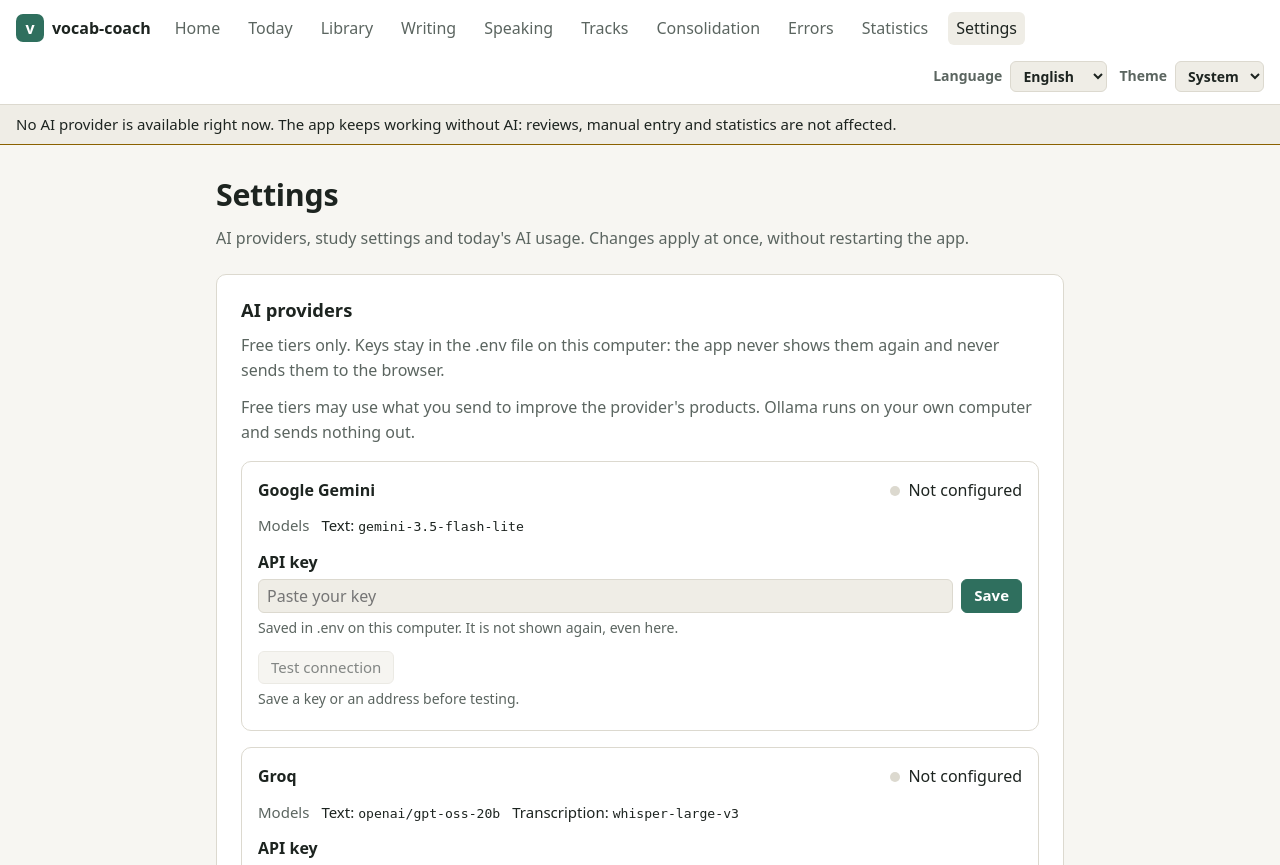
Test: Settings page: providers › explains a locked .env file
Type "AIzaSy-invented-key-1234567890" into the 1st password field labelled "API key".
click(606, 596); type("AIzaSy-invented-key-1234567890")  # box [258,578,953,613]
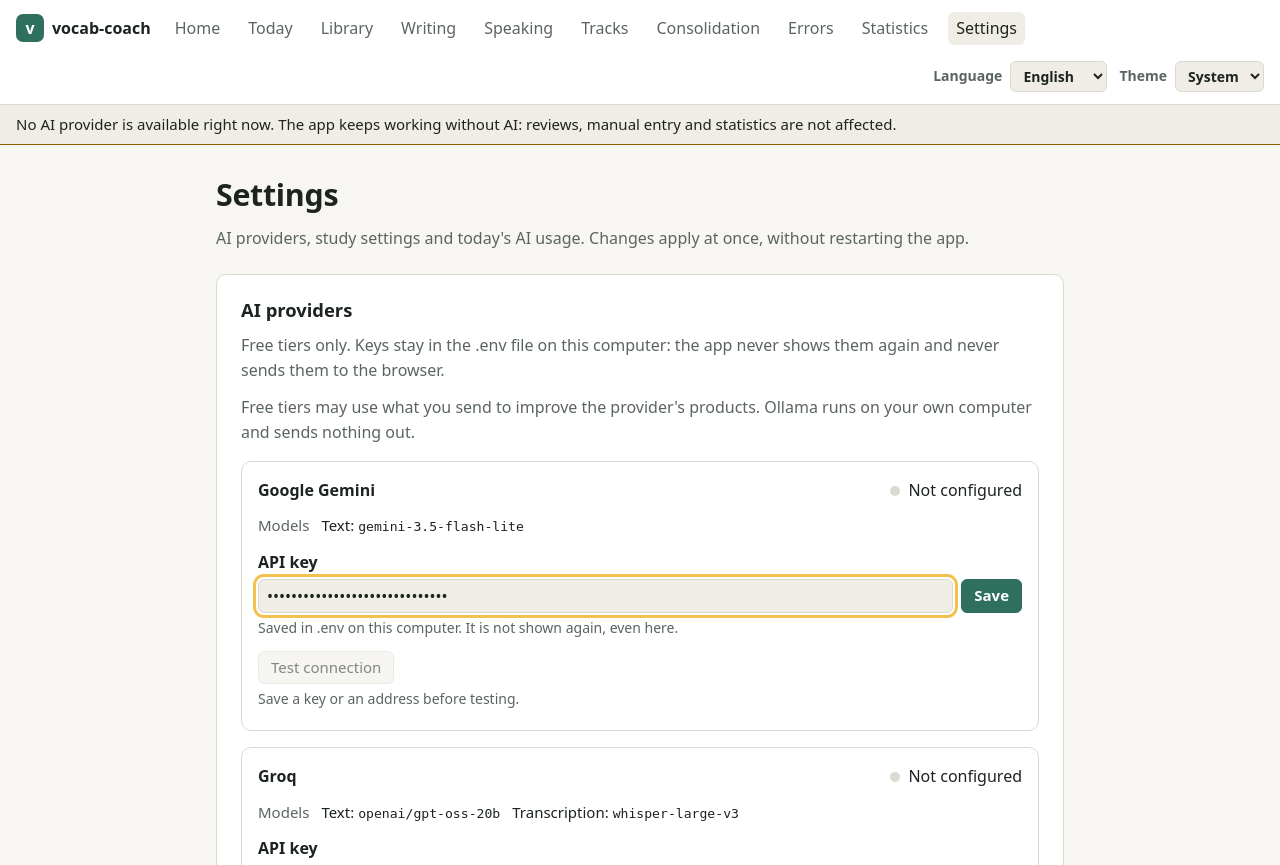
Click the 1st button "Save".
click(992, 596)  # box [961,578,1022,613]
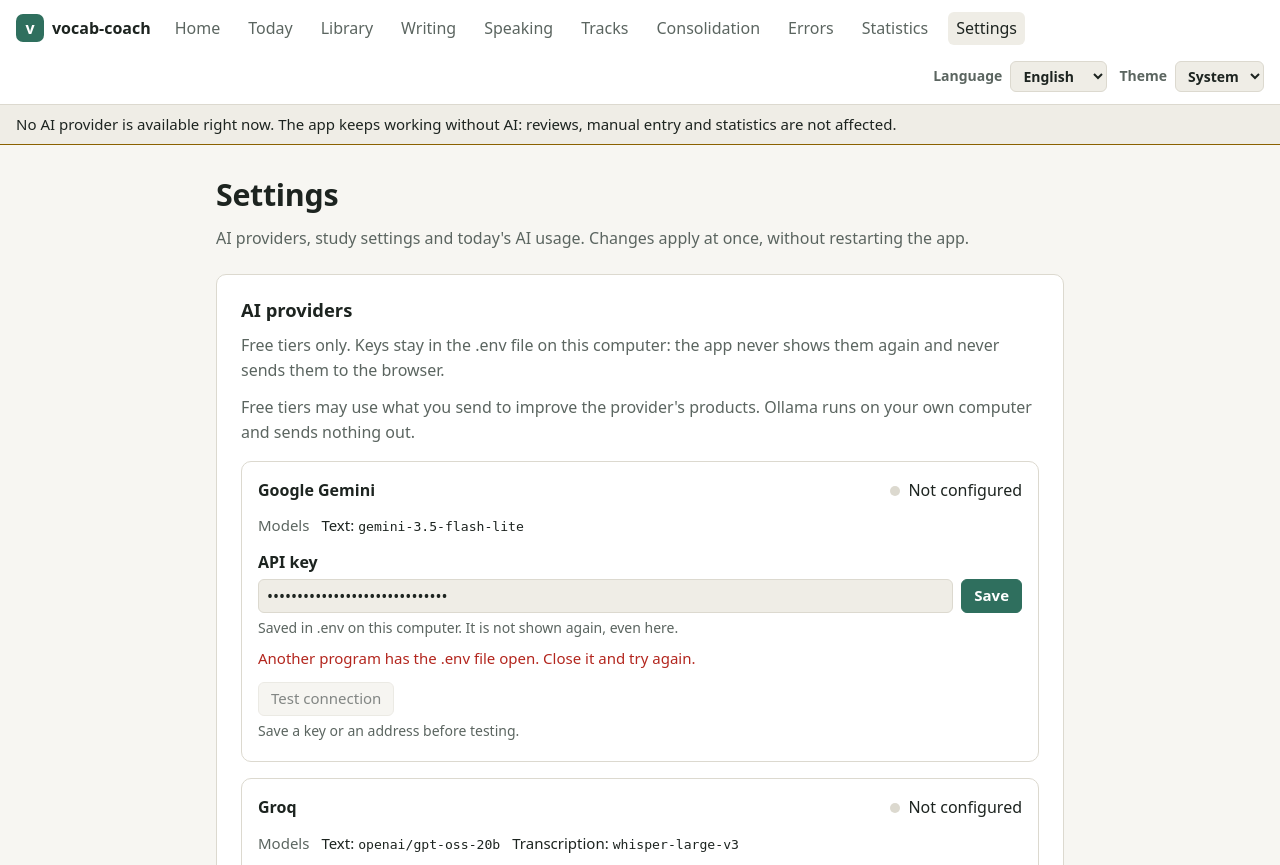
Now the message "Another program has the .env file open. Close it and try again." is shown, box [258,648,696,668]
